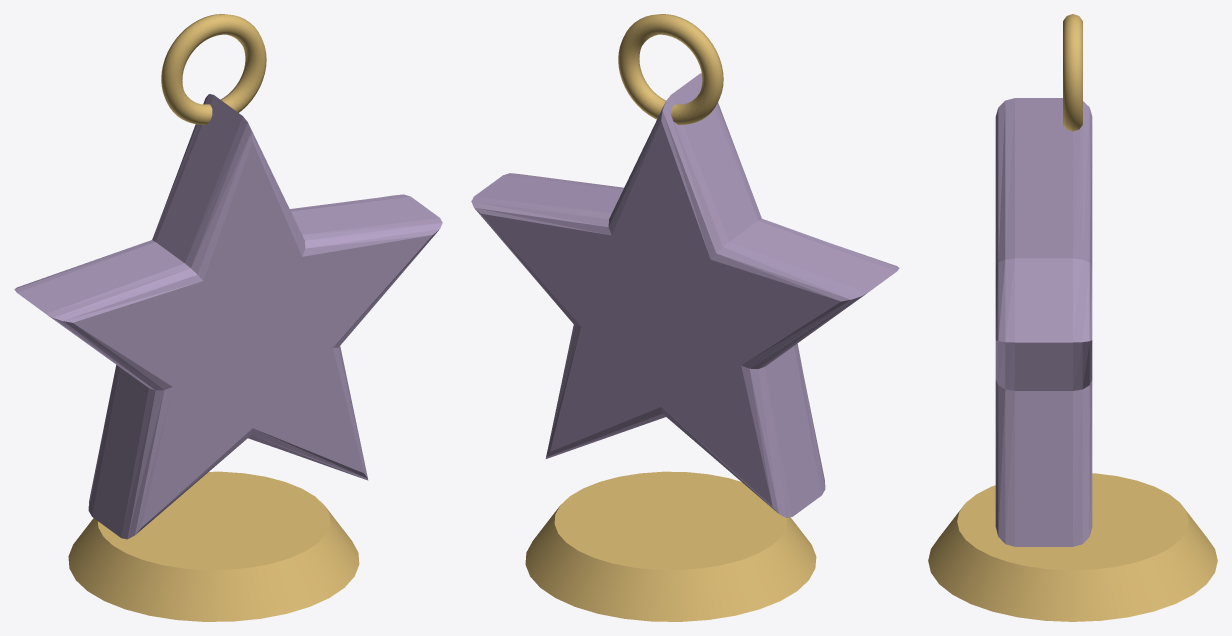
Rendered from star.glb.
The picture shows the model from 3 angles, left to right: view 1: azimuth 30°, elevation 25°; view 2: azimuth 150°, elevation 25°; view 3: azimuth 270°, elevation 25°; orthographic projection.
Size of the model in its own units: 0.9367 by 1.24 by 0.6.
